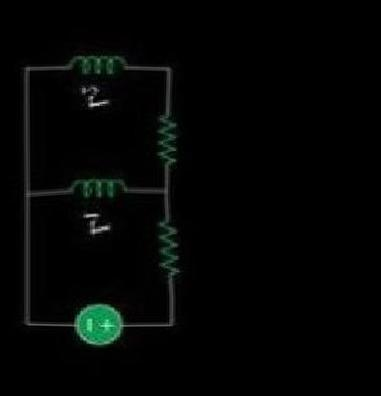Battery: (61, 296, 131, 358)
